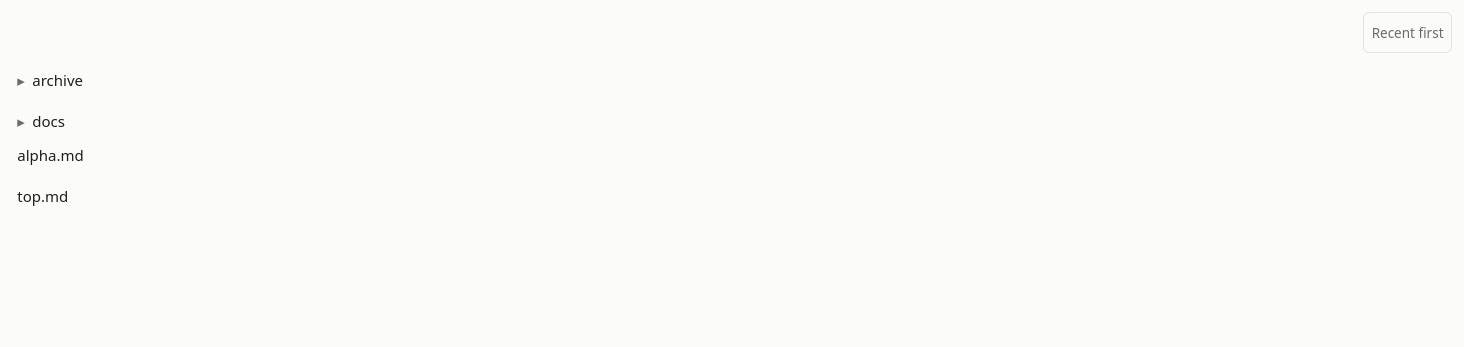
Test: Navigator › expands and collapses a directory, remembering the state
Click the button "▸ docs". click: coordinates (49, 121)
box: 12,100 -> 1452,142
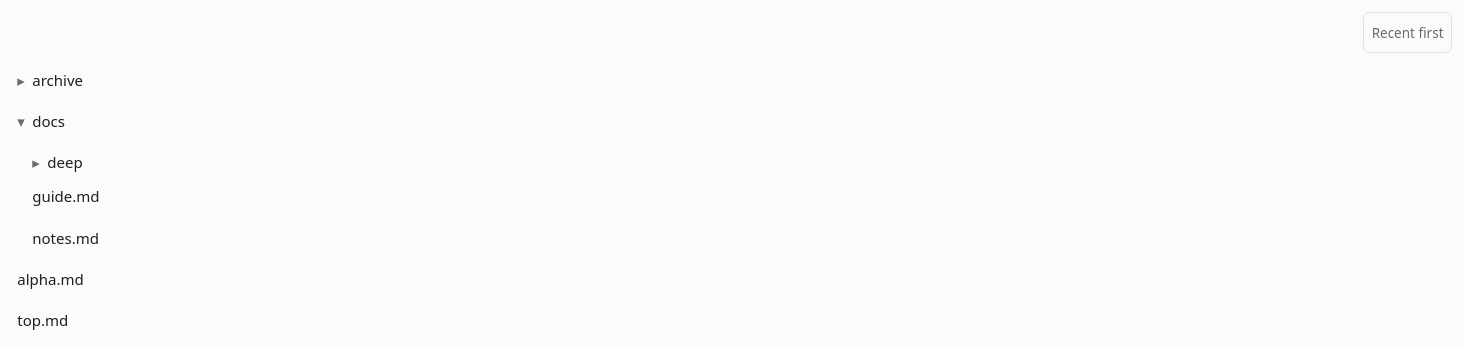
Expected: the link "guide.md" is shown, 32,186 -> 100,206
Click the button "▾ docs". click: coordinates (49, 121)
box: 12,100 -> 1452,142
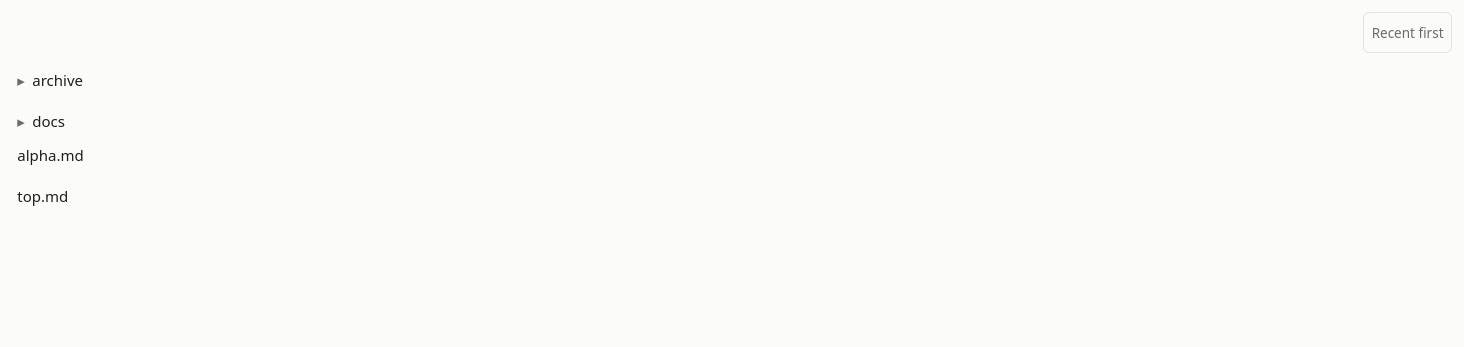
Expected: the link "guide.md" is gone
